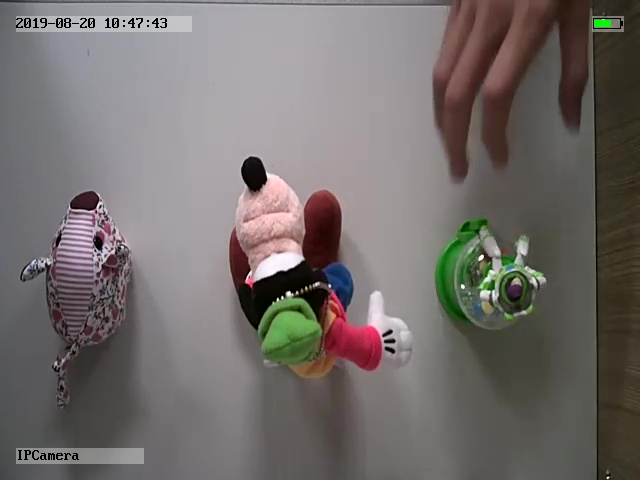buzz: (432, 216, 550, 333)
goofy: (222, 152, 417, 385)
pig: (19, 188, 138, 411)
